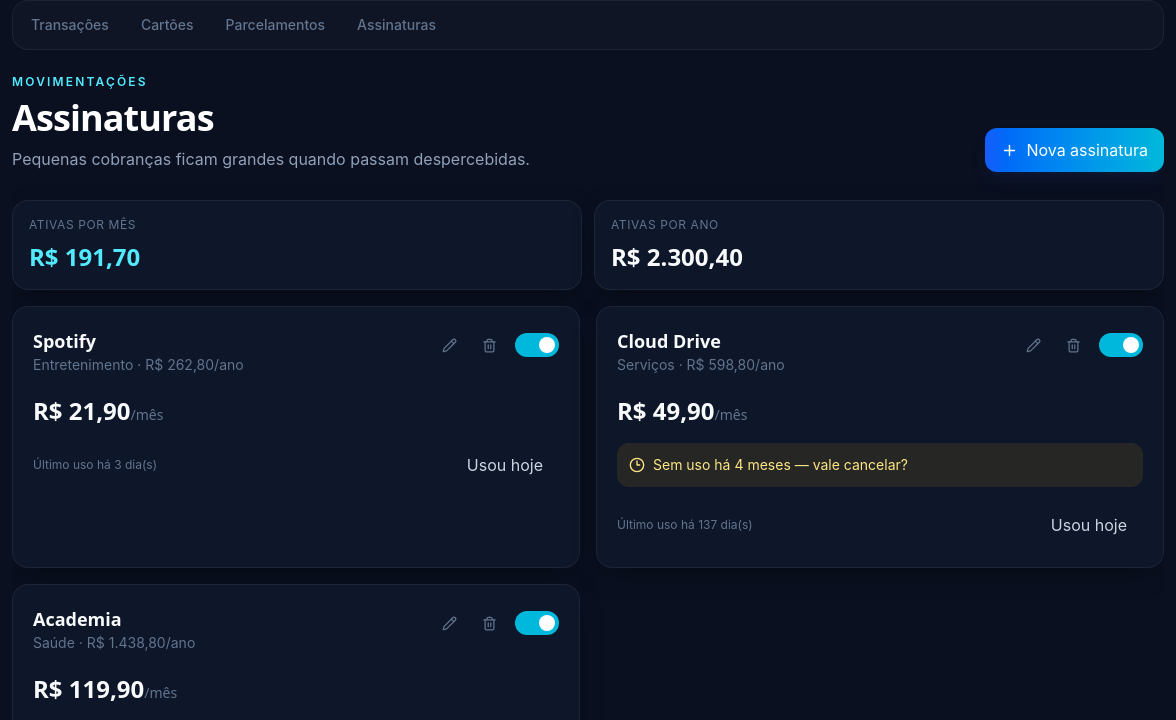
Scenario: shows forgotten subscriptions and records usage today
expect the text "Sem uso há 4 meses — vale cancelar?" is shown: met, box x1=617 y1=443 x2=1143 y2=487
Click the button "Usou hoje" in the row of "Último uso há 3 dia(s)" at (505, 465), box x1=451 y1=443 x2=559 y2=487
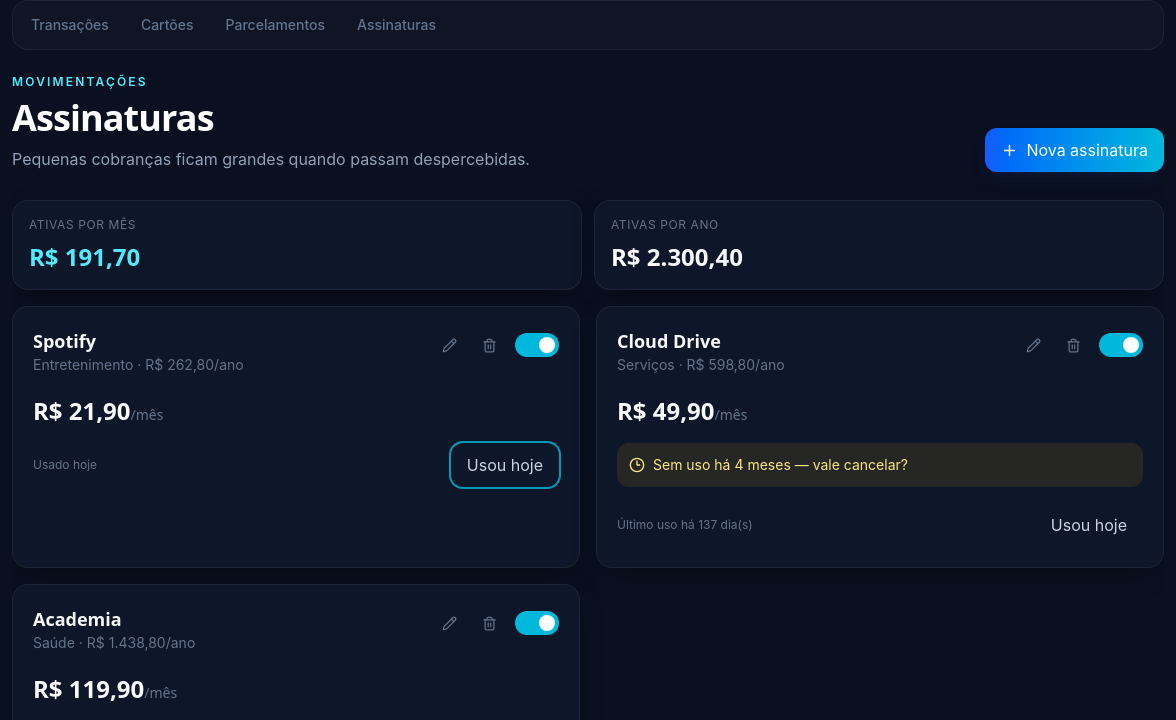
expect the text "Usado hoje" is shown: met, box x1=33 y1=457 x2=97 y2=473
